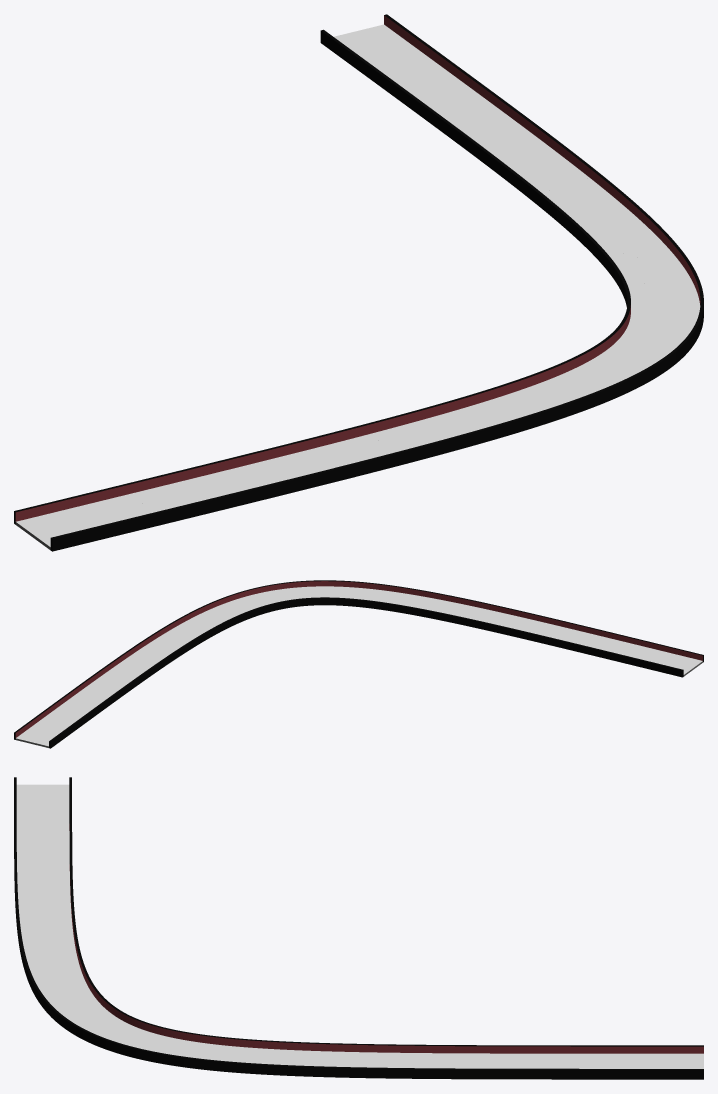
The model's file is Rotate_90_Right_Road.fbx.
3 renders of one model, top to bottom at view 1: azimuth 30°, elevation 25°; view 2: azimuth 150°, elevation 25°; view 3: azimuth 270°, elevation 25°, orthographic. The views are drawn at different scales.
Visible parts, largest first — view 1: Road Sides, Left Wall, Right Wall; view 2: Road Sides, Right Wall, Left Wall; view 3: Road Sides, Left Wall, Right Wall.
Part boxes in pixels (bbox=[...]): Road Sides: bbox=[15, 24, 700, 550]; Left Wall: bbox=[50, 14, 703, 551]; Right Wall: bbox=[14, 29, 630, 524]; Road Sides: bbox=[15, 586, 702, 747]; Right Wall: bbox=[49, 597, 683, 748]; Left Wall: bbox=[14, 580, 703, 739]; Road Sides: bbox=[16, 784, 703, 1068]; Left Wall: bbox=[14, 777, 703, 1079]; Right Wall: bbox=[69, 777, 703, 1053].
Size of the model in its own units: 26201 by 401 by 26121.
